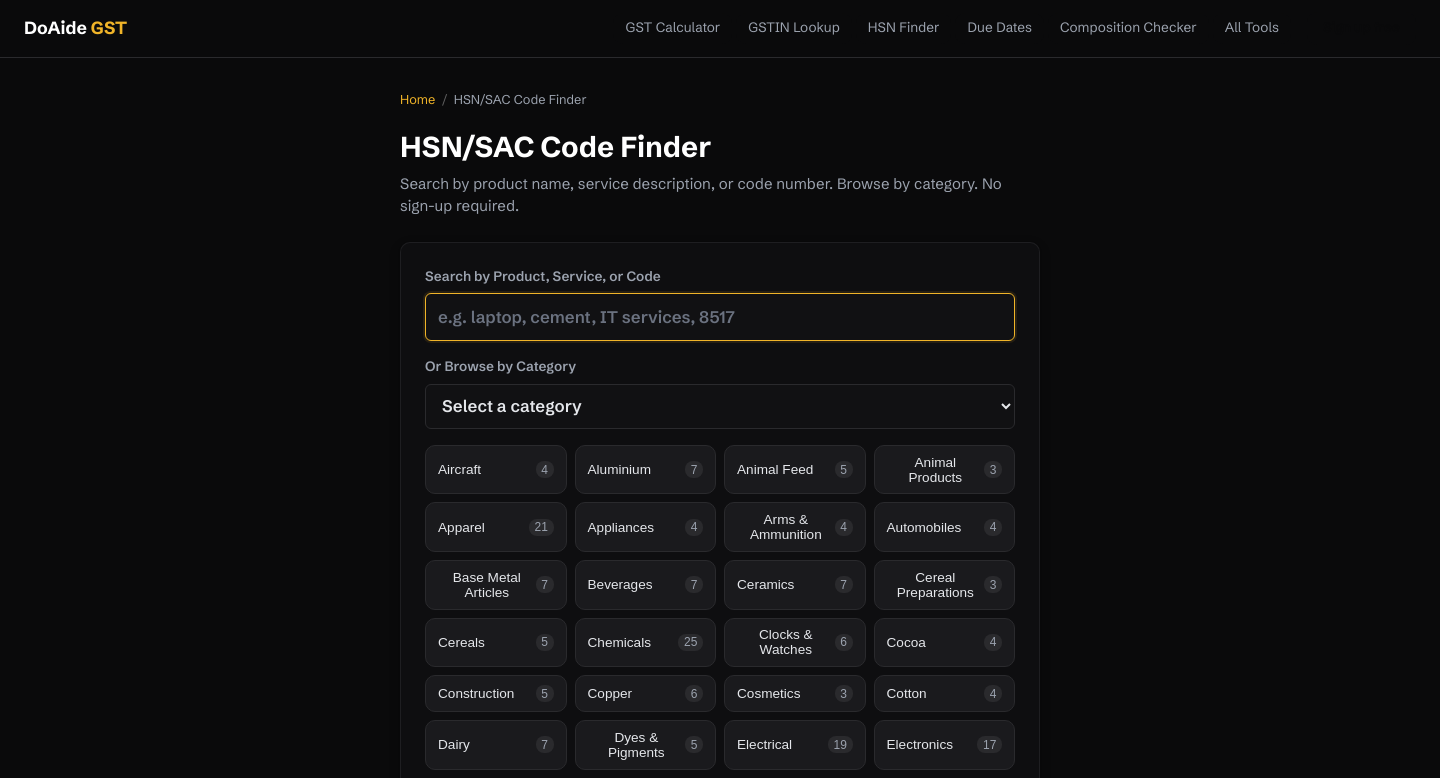
Test: HsnSacFinderPage › shows results when browsing by category
Click the button "Beverages 7".
click(645, 585)  # box top-left (574, 560), bottom-right (716, 610)
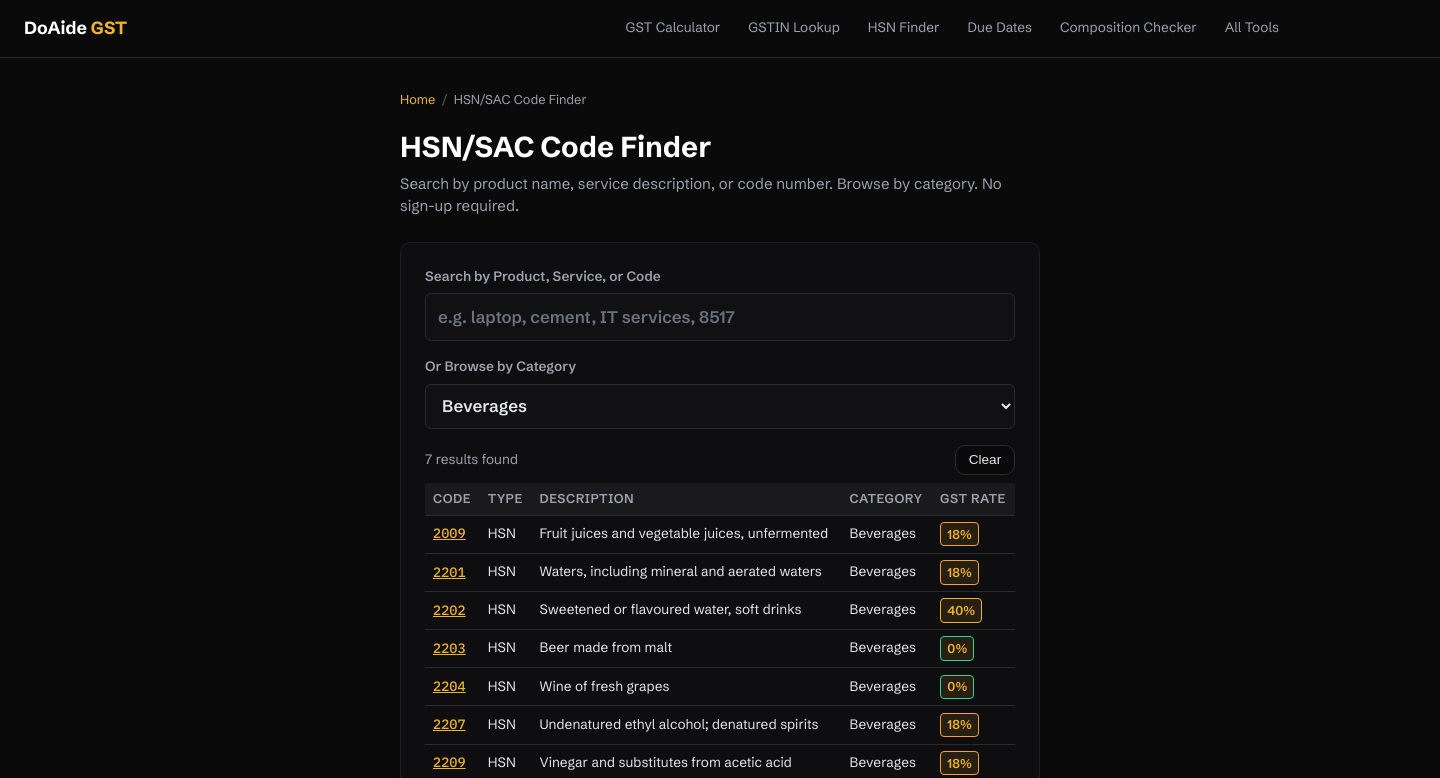
Expected: the link "2201" is shown, top-left (433, 563), bottom-right (466, 581)
